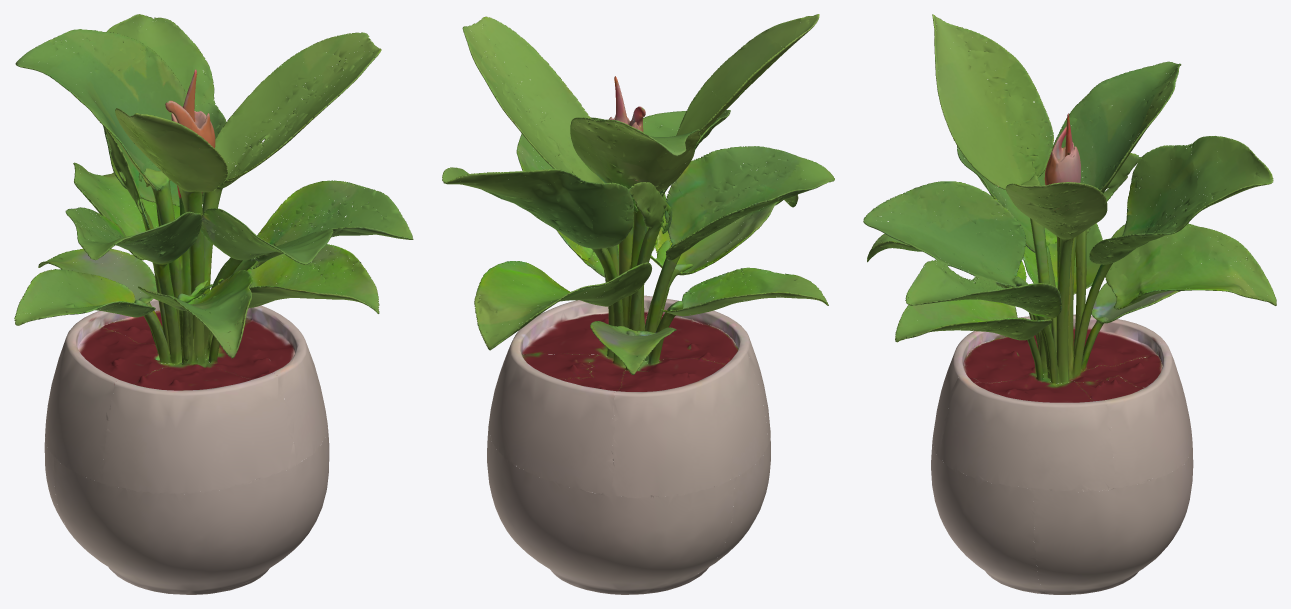
File: plant-1.glb
The picture shows the model from 3 angles, left to right: view 1: azimuth 30°, elevation 25°; view 2: azimuth 150°, elevation 25°; view 3: azimuth 270°, elevation 25°; orthographic projection. The views are drawn at different scales.
Visible parts, largest first — view 1: tripo_node_21ae3d45-e1d3-4970-b065-efdb7ba22d21; view 2: tripo_node_21ae3d45-e1d3-4970-b065-efdb7ba22d21; view 3: tripo_node_21ae3d45-e1d3-4970-b065-efdb7ba22d21.
Part boxes in pixels (<box>): tripo_node_21ae3d45-e1d3-4970-b065-efdb7ba22d21: <box>14,14,413,594</box>; tripo_node_21ae3d45-e1d3-4970-b065-efdb7ba22d21: <box>442,14,834,594</box>; tripo_node_21ae3d45-e1d3-4970-b065-efdb7ba22d21: <box>863,14,1276,594</box>.
Bounding box in the file's own units: 0.7107 × 1 × 0.7558.
Materials: 1 (1 with a texture image).
